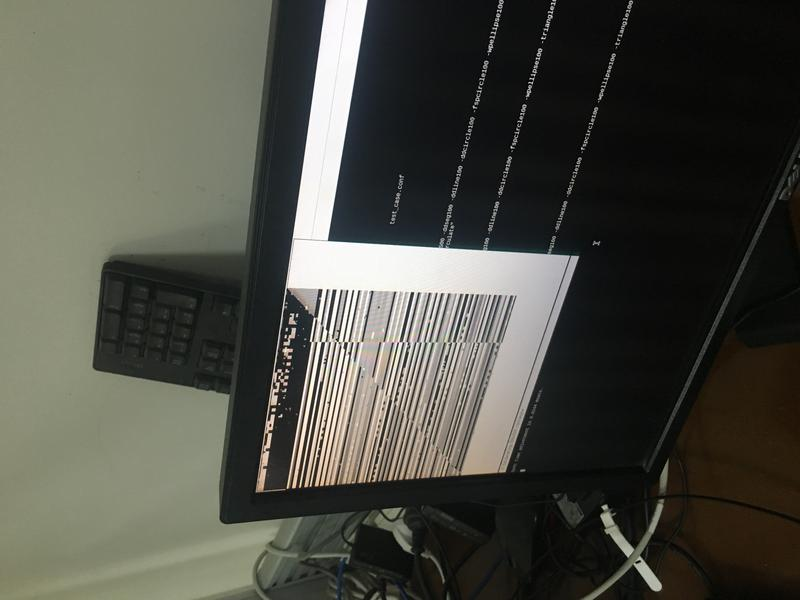xrandr_pass: (256, 232, 584, 491)
